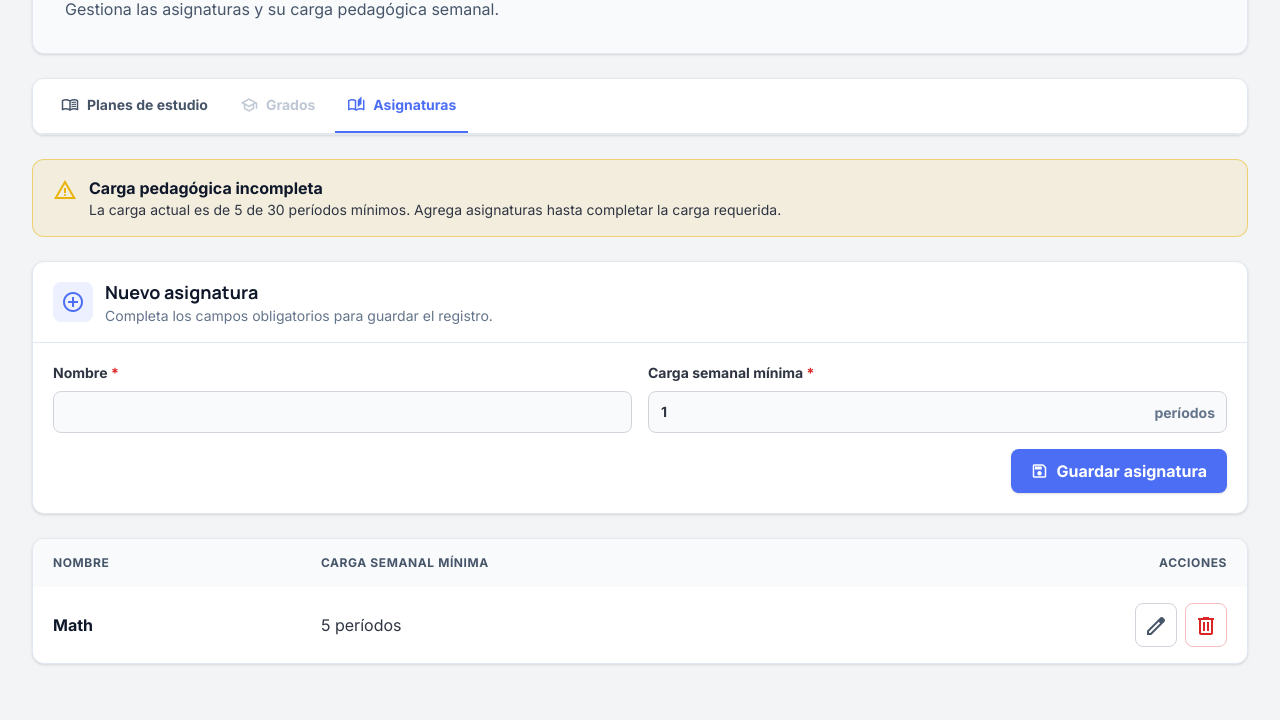
Test case: PlanningPage › shows and refreshes the grade alert when the grade has no subjects
(page scrolled)
expect the message shows "5 de 30": met, box x1=32 y1=159 x2=1248 y2=237
Click the button named "Eliminar Math".
click(1206, 625)  # box x1=1185 y1=603 x2=1227 y2=647
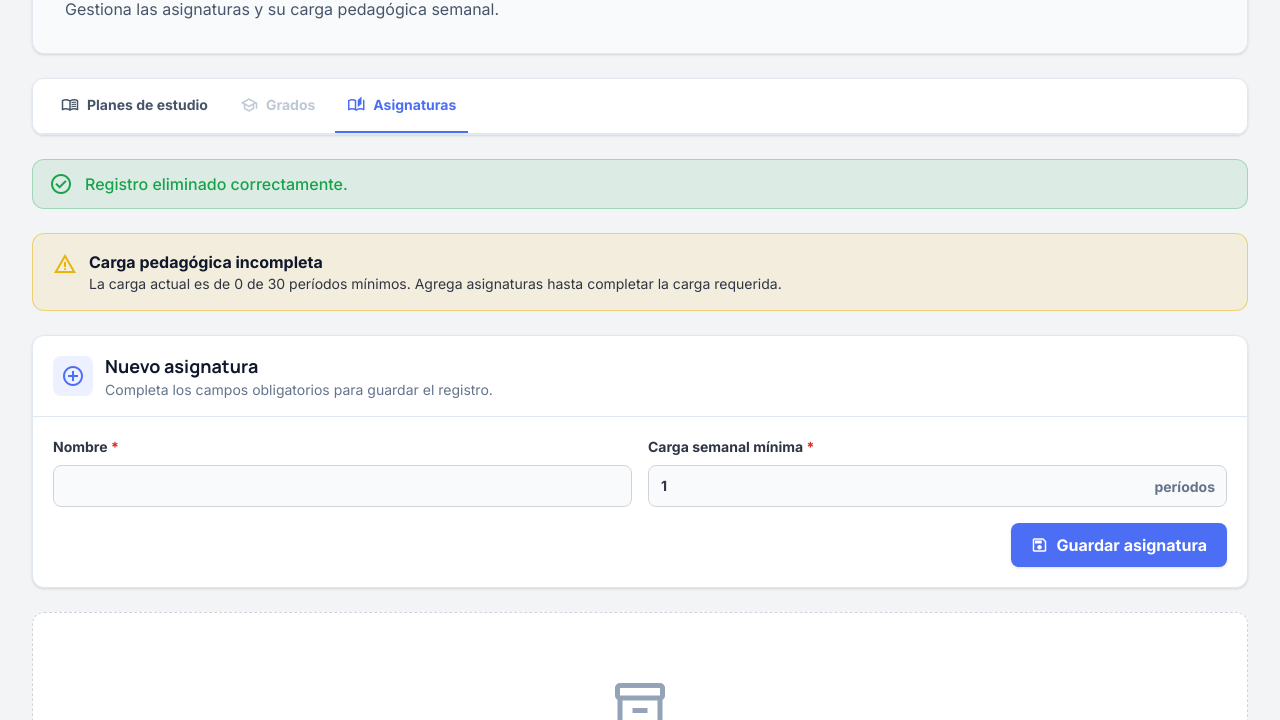
expect the message that starts with "Carga pedagógica incompleta" shows "0 de 30": met, box x1=32 y1=233 x2=1248 y2=311
